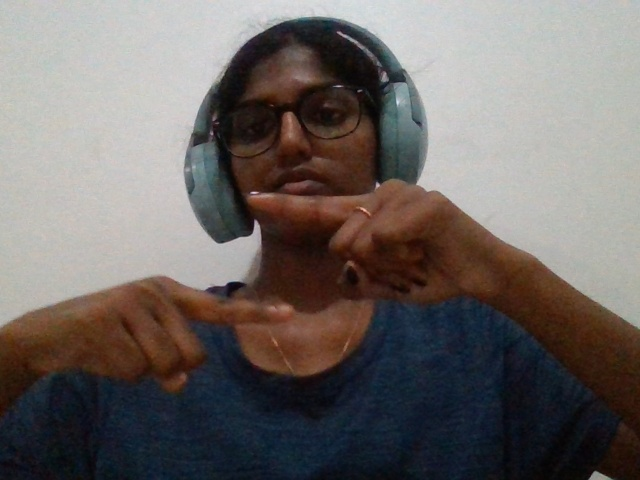Sign: (10, 165, 566, 410)
